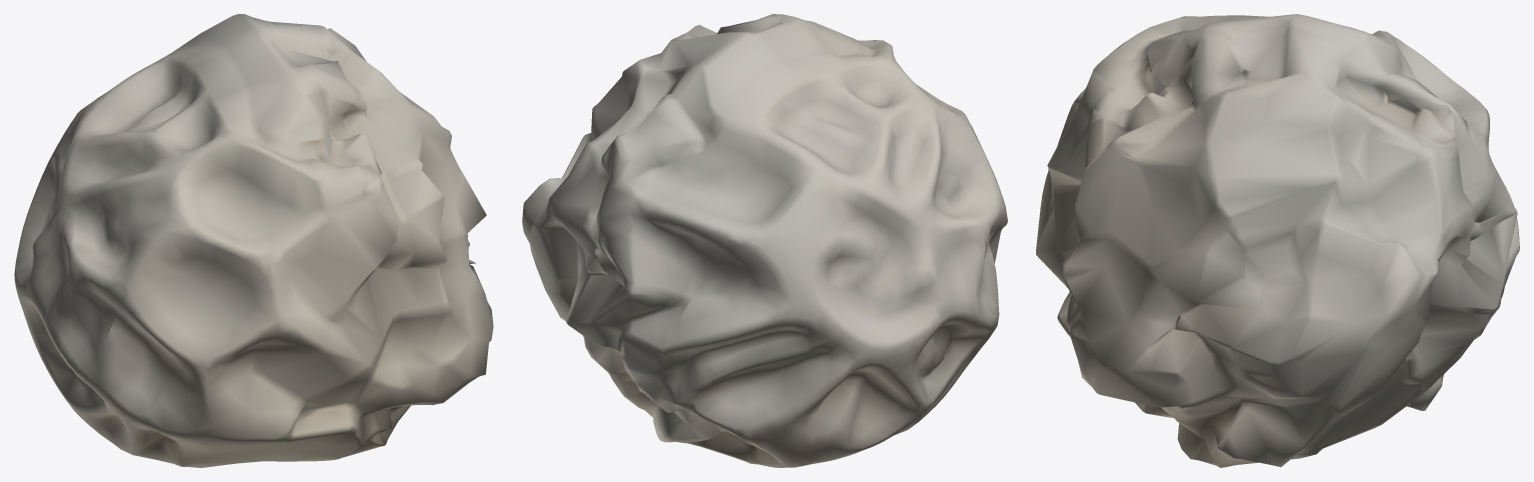
The model's file is cloth.glb.
The picture shows the model from 3 angles, left to right: view 1: azimuth 30°, elevation 25°; view 2: azimuth 150°, elevation 25°; view 3: azimuth 270°, elevation 25°; orthographic projection. The views are drawn at different scales.
Visible parts, largest first — view 1: tripo_node_8a7d63bb-cd52-4dd0-a557-cfe44b8d133a; view 2: tripo_node_8a7d63bb-cd52-4dd0-a557-cfe44b8d133a; view 3: tripo_node_8a7d63bb-cd52-4dd0-a557-cfe44b8d133a.
Boxes of the visible parts, box(x1,y1,x2,y2) form: tripo_node_8a7d63bb-cd52-4dd0-a557-cfe44b8d133a: box(14, 14, 493, 467); tripo_node_8a7d63bb-cd52-4dd0-a557-cfe44b8d133a: box(522, 14, 1007, 467); tripo_node_8a7d63bb-cd52-4dd0-a557-cfe44b8d133a: box(1036, 14, 1519, 467).
Size of the model in its own units: 0.9995 by 0.9653 by 0.9995.
Materials: 1 (1 with a texture image).
